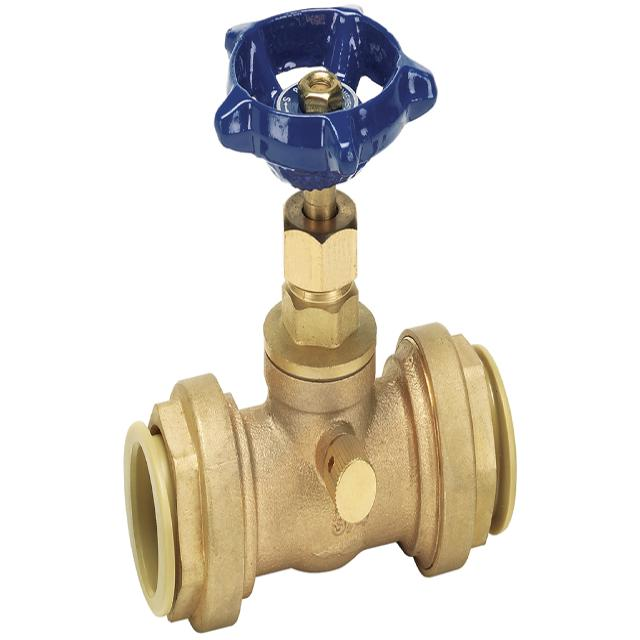Wheel Handle Valve Threaded: (114, 0, 527, 639)
